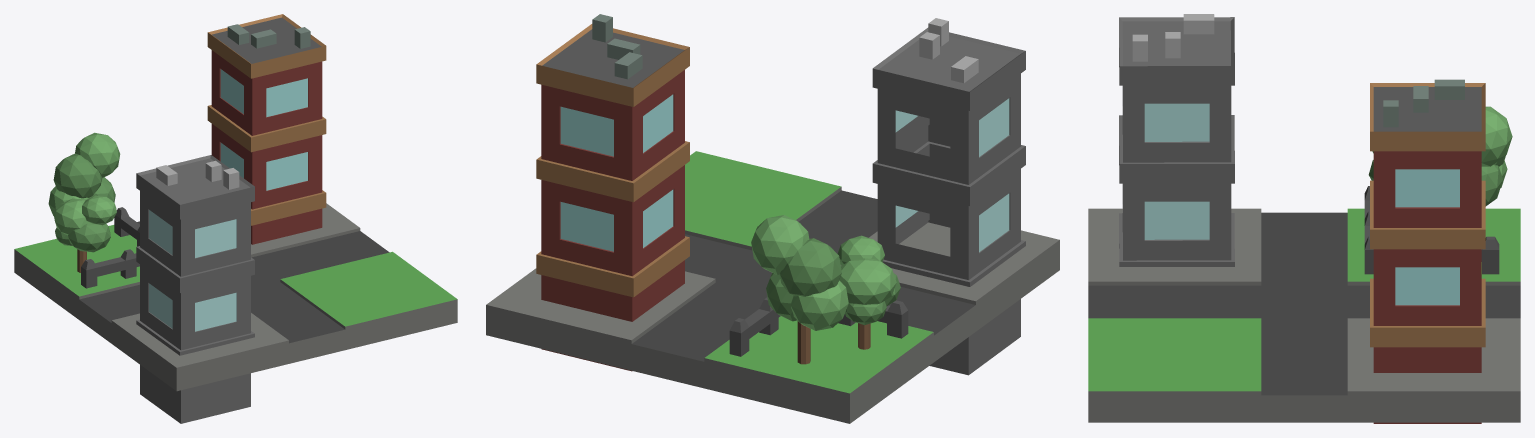
Rendered from crossroads.fbx.
3 renders of one model, left to right at view 1: azimuth 30°, elevation 25°; view 2: azimuth 150°, elevation 25°; view 3: azimuth 270°, elevation 25°, orthographic. The views are drawn at different scales.
Visible parts, largest first — view 1: Cube, Cube.003, Cube.001, Cube.002; view 2: Cube, Cube.001, Cube.003, Cube.002; view 3: Cube, Cube.001, Cube.003, Cube.002.
Part boxes in pixels (x1,y1,x2,y2): Cube: (14,203,457,391); Cube.003: (136,155,254,423); Cube.001: (207,14,326,244); Cube.002: (48,132,139,288); Cube: (486,151,1059,423); Cube.001: (536,14,689,371); Cube.003: (872,18,1025,375); Cube.002: (729,215,908,364); Cube: (1088,208,1520,422); Cube.001: (1370,79,1485,423); Cube.003: (1119,14,1234,266); Cube.002: (1364,106,1512,274).
Bounding box in the file's own units: 1000 × 903 × 1000.
